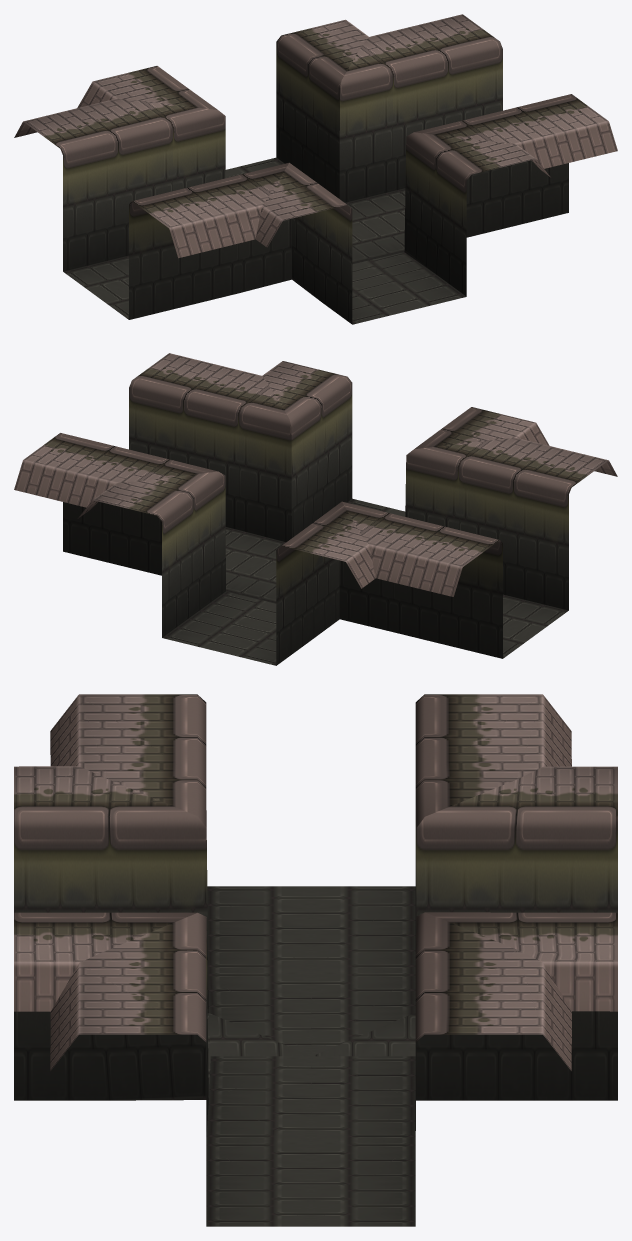
File: Canal_Brick_04.FBX
The picture shows the model from 3 angles, top to bottom: view 1: azimuth 30°, elevation 25°; view 2: azimuth 150°, elevation 25°; view 3: azimuth 270°, elevation 25°; orthographic projection. The views are drawn at different scales.
Parts seen in each view (by area): view 1: Canal_Brick_04; view 2: Canal_Brick_04; view 3: Canal_Brick_04.
Boxes of the visible parts, left/top/right/bottom form: Canal_Brick_04: left=14, top=14, right=617, bottom=324; Canal_Brick_04: left=14, top=353, right=617, bottom=665; Canal_Brick_04: left=14, top=694, right=617, bottom=1226.
Size of the model in its own units: 327 by 85.92 by 245.
